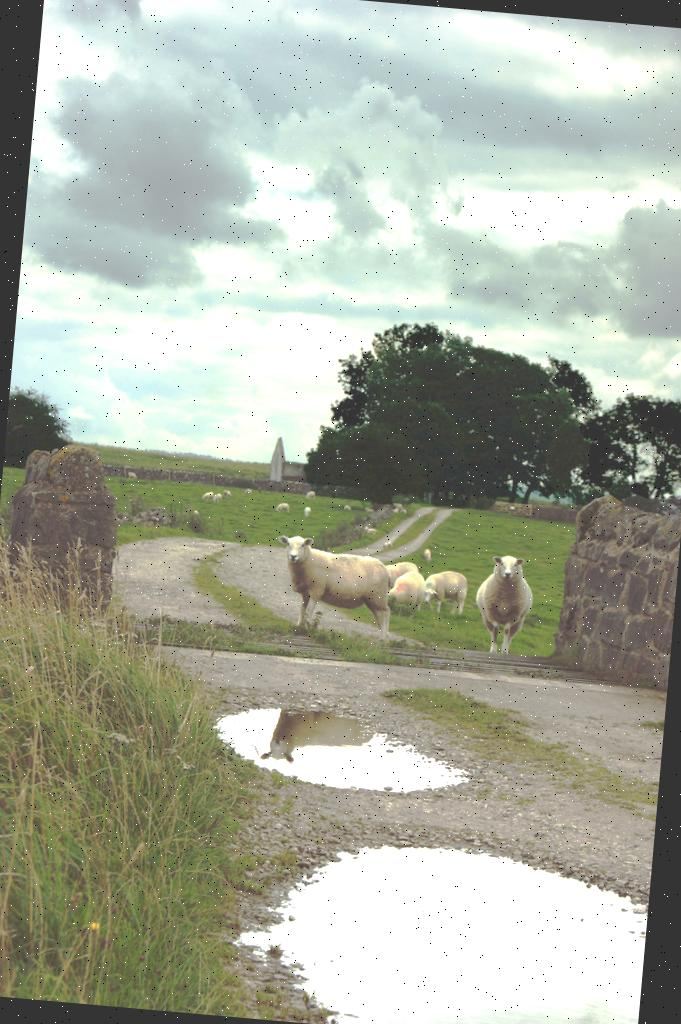Sheep: (269, 536, 393, 644), (469, 552, 538, 653), (426, 572, 471, 612), (390, 564, 422, 610), (388, 558, 420, 584)
